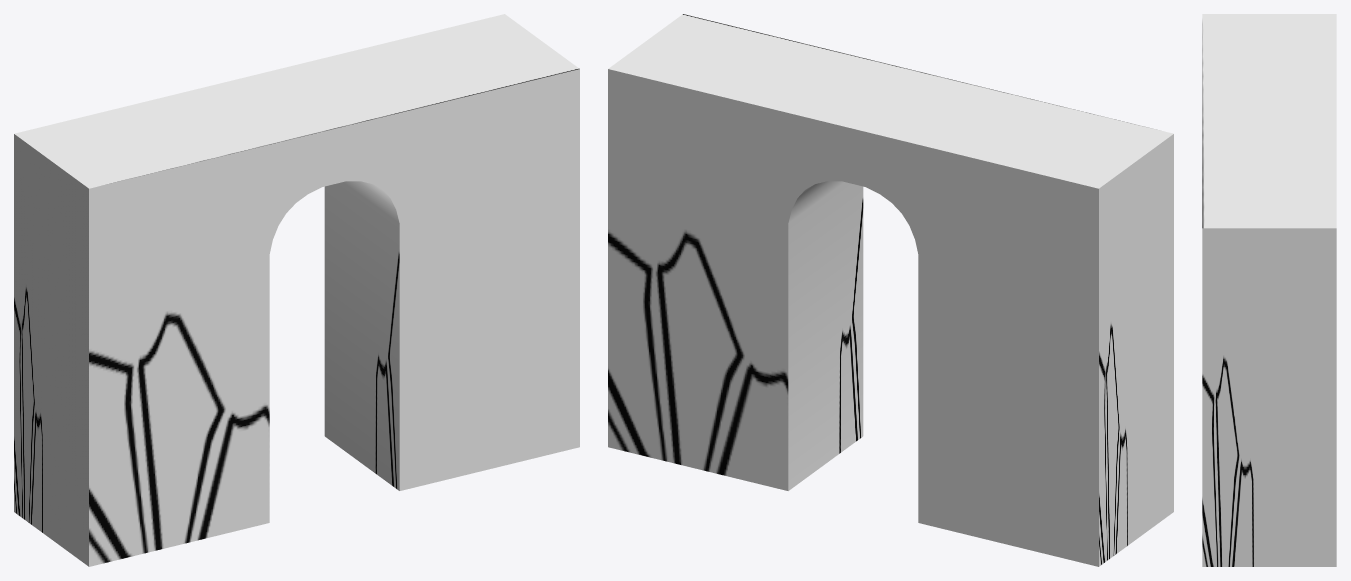
3 views of the same model, side by side, from view 1: azimuth 30°, elevation 25°; view 2: azimuth 150°, elevation 25°; view 3: azimuth 270°, elevation 25° (orthographic). The views are drawn at different scales.
Visible parts, largest first — view 1: 16; view 2: 16; view 3: 16.
Part boxes in pixels (x1=…): 16: x1=14, y1=14, x2=579, y2=566; 16: x1=608, y1=14, x2=1173, y2=566; 16: x1=1202, y1=14, x2=1336, y2=566.
Size of the model in its own units: 18484 by 4901 by 13612.
